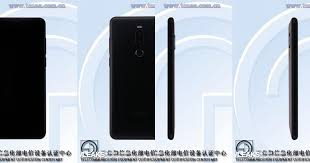meizu: (106, 14, 155, 142)
